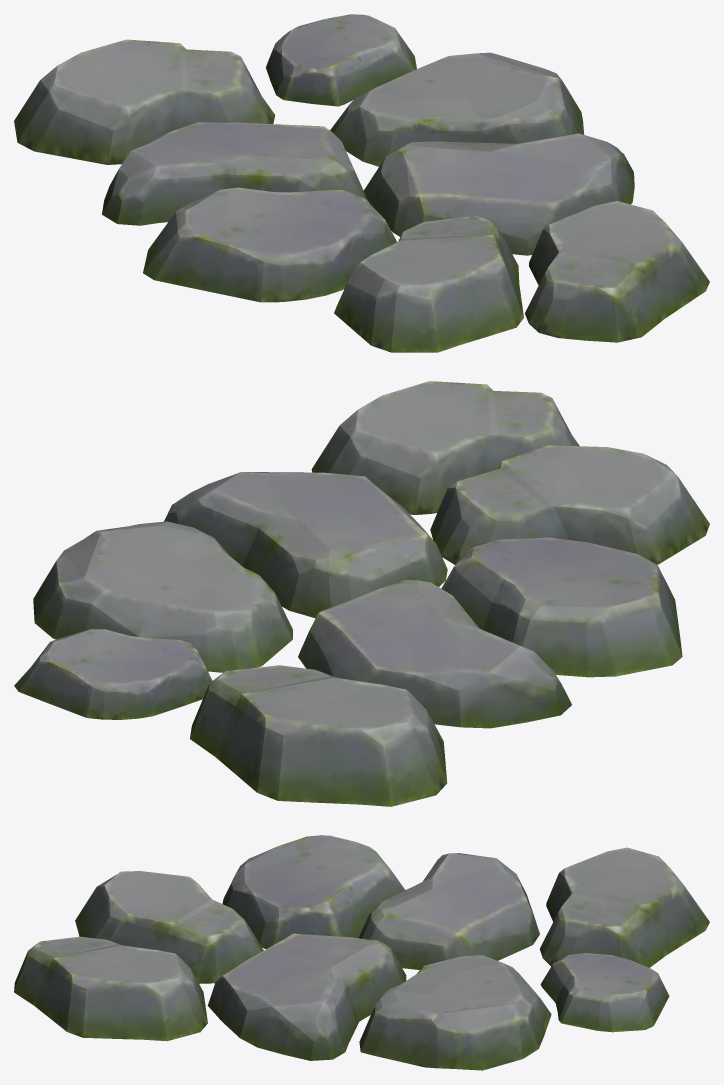
Rendered from rockpath_round_small_1.glb.
3 renders of one model, top to bottom at view 1: azimuth 30°, elevation 25°; view 2: azimuth 150°, elevation 25°; view 3: azimuth 270°, elevation 25°, orthographic. The views are drawn at different scales.
Visible parts, largest first — view 1: RockPath_Round_Small_1; view 2: RockPath_Round_Small_1; view 3: RockPath_Round_Small_1.
Boxes of the visible parts, left/top/right/bottom form: RockPath_Round_Small_1: left=14, top=14, right=709, bottom=352; RockPath_Round_Small_1: left=14, top=381, right=709, bottom=806; RockPath_Round_Small_1: left=14, top=835, right=709, bottom=1070.
Bounding box in the file's own units: 1.06 × 0.1128 × 1.48.
Materials: 1 (1 with a texture image).
